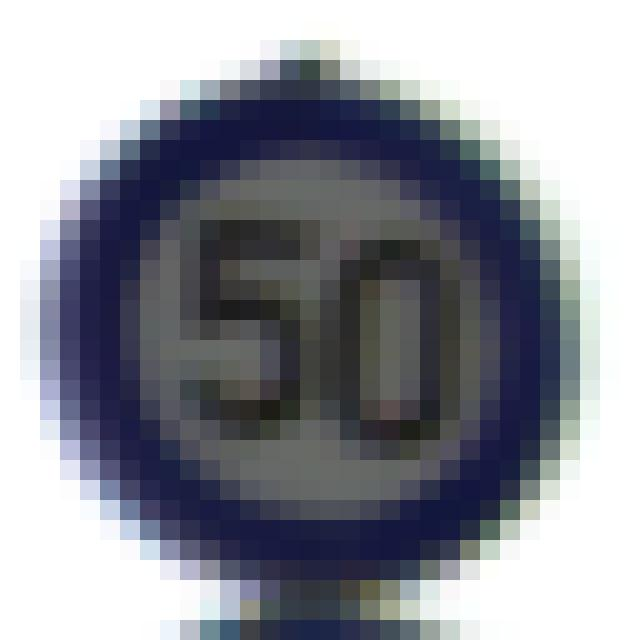SPEED LIMIT 50: (46, 120, 594, 584)
